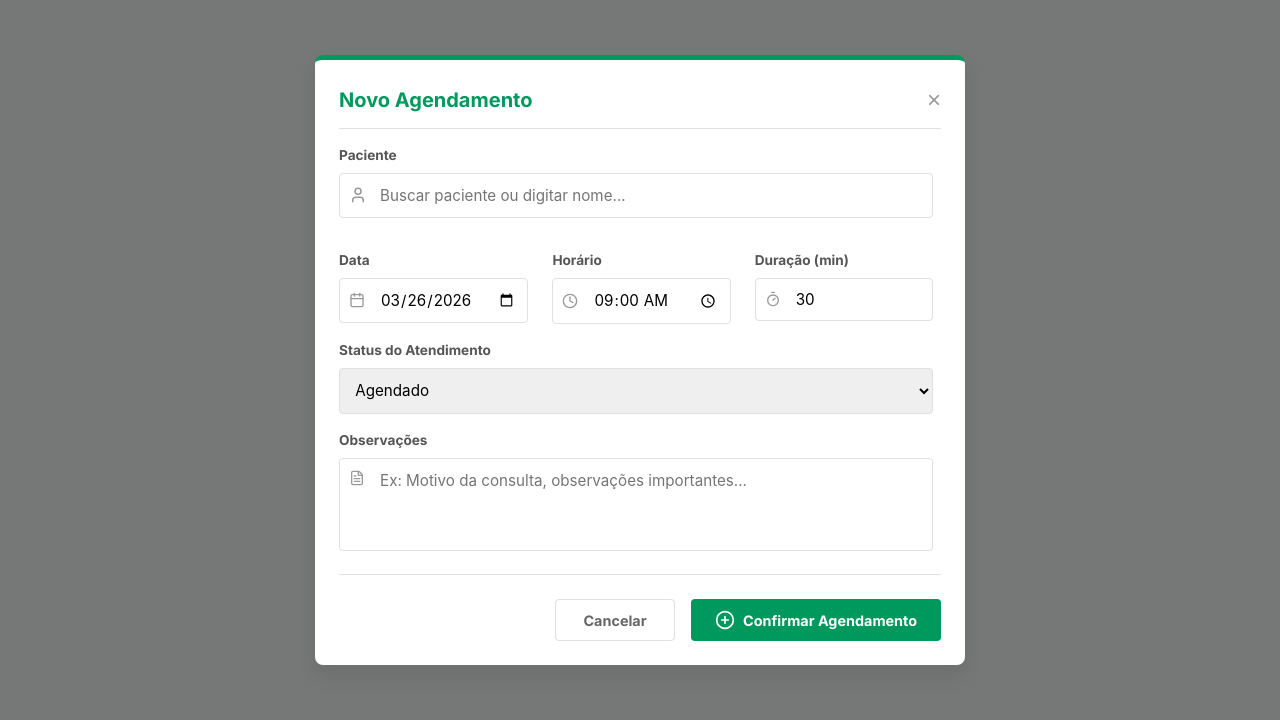
Test: AppointmentFormModal › deve realizar busca de pacientes ao digitar
Type "Joã" into the field with placeholder "Buscar paciente ou digitar nome..." at point(636, 195), box [339,173,933,218]
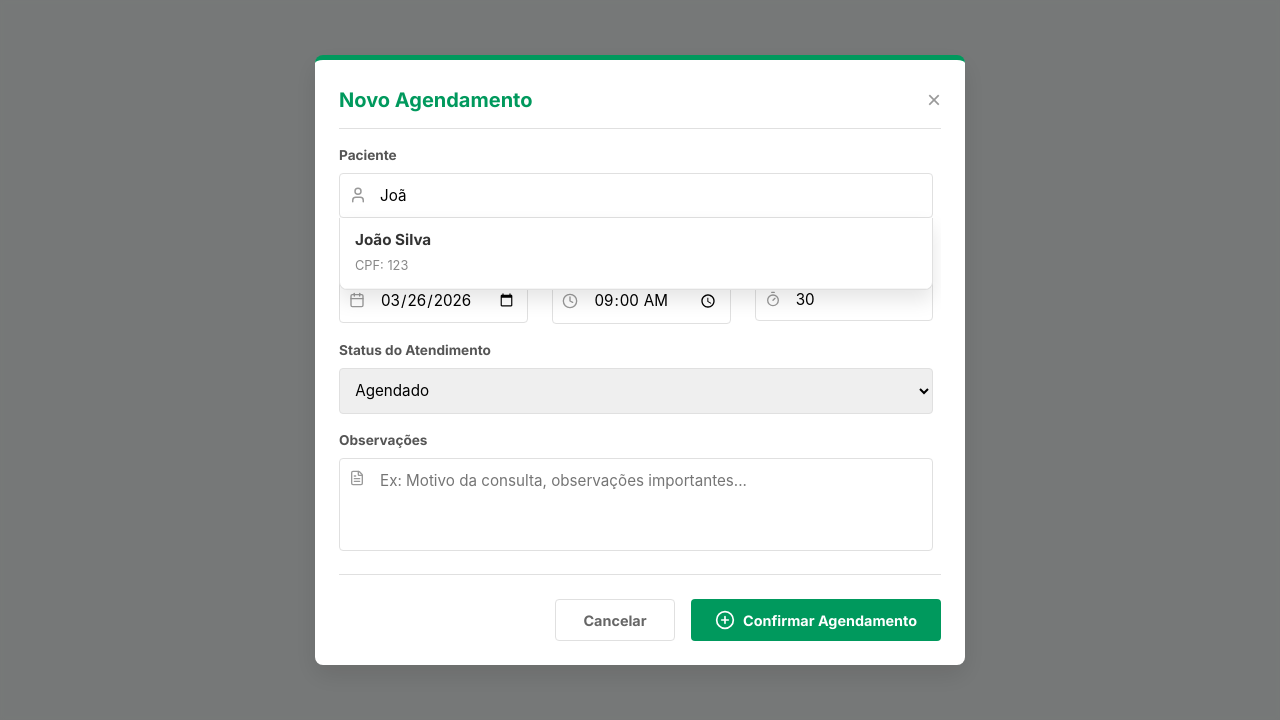
Result: the text "João Silva" is shown
Click the text "João Silva" at point(393, 239), box [355,230,431,249]
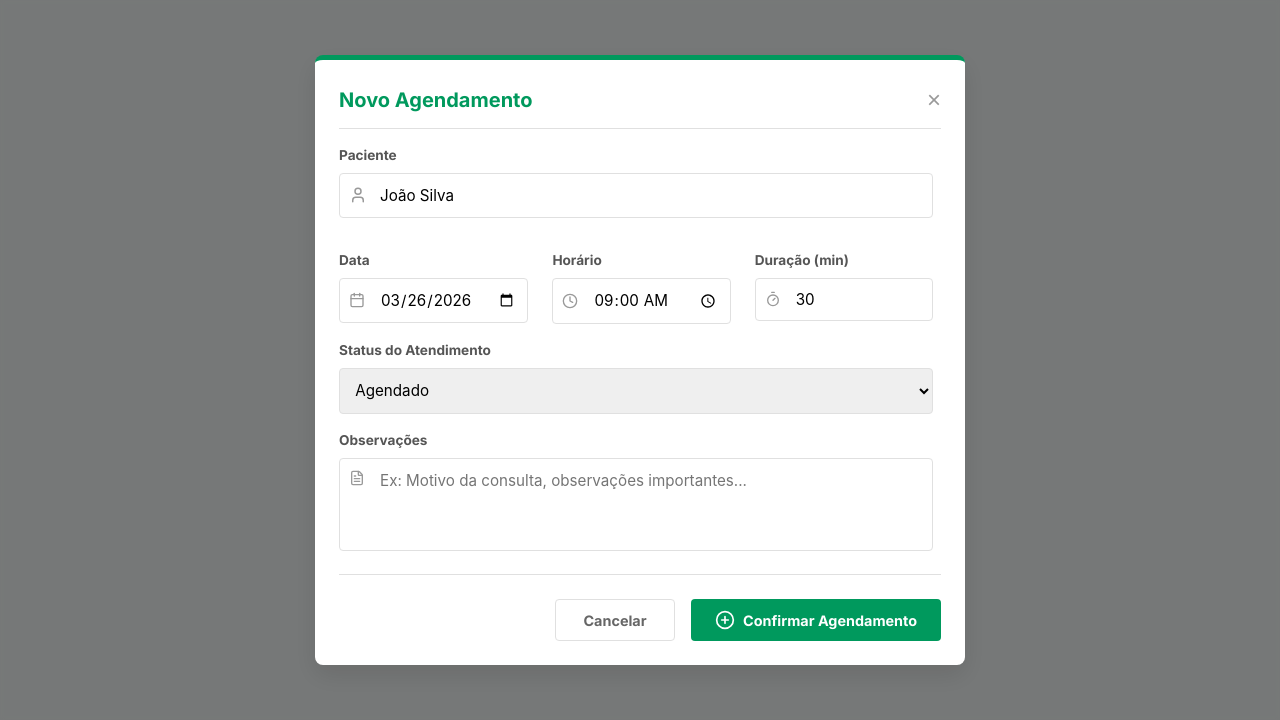
Result: the field showing "João Silva" is shown at [339,173,933,218]
